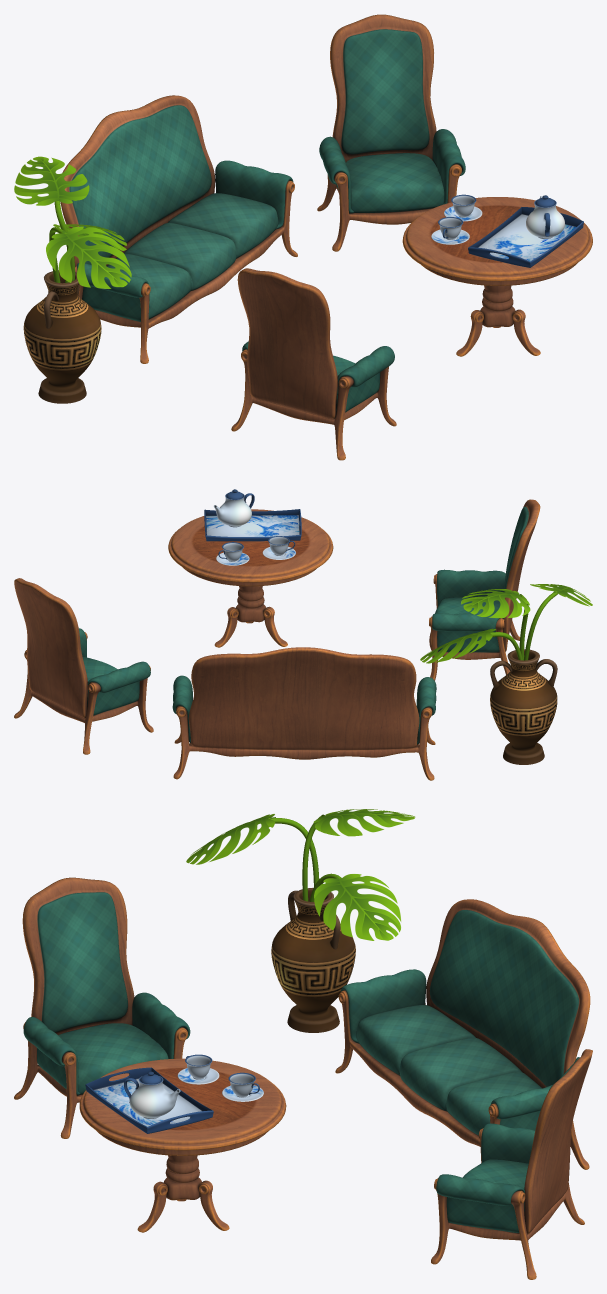
File: furniture_set.glb
3 views of the same model, one above another, from view 1: azimuth 30°, elevation 25°; view 2: azimuth 150°, elevation 25°; view 3: azimuth 270°, elevation 25° (orthographic). The views are drawn at different scales.
Visible parts, largest first — view 1: sofa_00_7, chair_01_1, chair_00_0, vase_00_11, table_00_8, tray_00_10, teapot_00_9; view 2: sofa_00_7, chair_01_1, vase_00_11, table_00_8, chair_00_0, tray_00_10, teapot_00_9; view 3: sofa_00_7, chair_00_0, vase_00_11, chair_01_1, table_00_8, tray_00_10, teapot_00_9.
Boxes of the visible parts, x1,y1,x2,y2 form: sofa_00_7: (60,95,297,363); chair_01_1: (317,14,465,251); chair_00_0: (231,268,396,460); vase_00_11: (14,156,131,403); table_00_8: (402,197,592,356); tray_00_10: (468,207,583,267); teapot_00_9: (526,195,564,238); sofa_00_7: (172,647,436,780); chair_01_1: (14,578,153,754); vase_00_11: (420,584,592,764); table_00_8: (168,509,333,647); chair_00_0: (429,499,540,680); tray_00_10: (204,509,301,541); teapot_00_9: (213,489,254,527); sofa_00_7: (335,899,590,1169); chair_00_0: (14,877,190,1138); vase_00_11: (186,809,415,1032); chair_01_1: (431,1049,592,1279); table_00_8: (79,1058,286,1232); tray_00_10: (85,1067,213,1133); teapot_00_9: (124,1071,180,1118).
Bounding box in the file's own units: 3.93 × 1.42 × 3.43.
2 materials, 2 textured.
